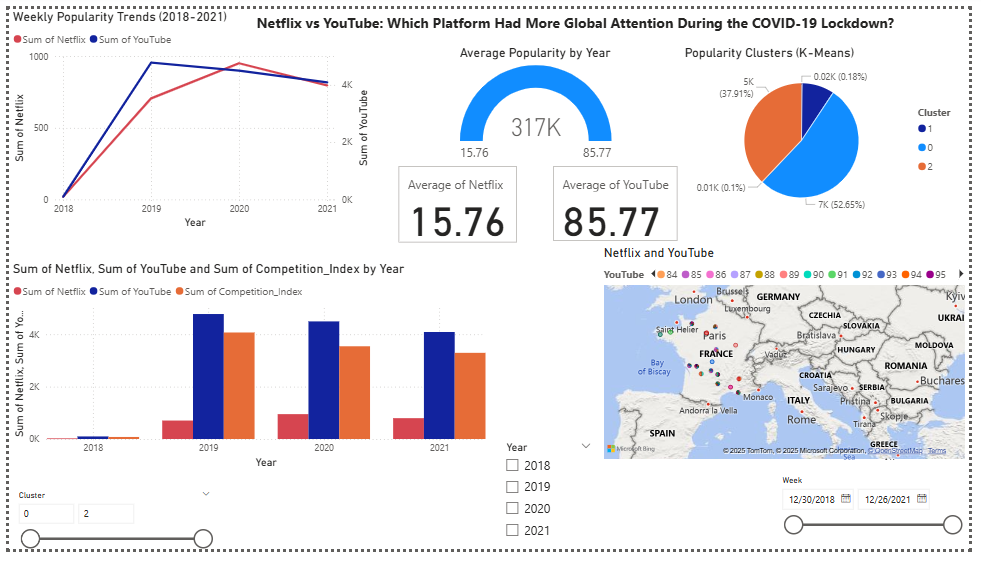

What the dashboard file says about the page in this screenshot:
{"tool":"powerbi","page":{"name":"DASHBOARD","canvas":[1280,720],"ordinal":0},"visuals":[{"type":"lineChart","title":"Weekly Popularity Trends (2018-2021)","fields":{"Category":["netflix_youtube_analyzed.Week.Variation.Date Hierarchy.Year","netflix_youtube_analyzed.Week.Variation.Date Hierarchy.Quarter","netflix_youtube_analyzed.Week.Variation.Date Hierarchy.Month","netflix_youtube_analyzed.Week.Variation.Date Hierarchy.Day"],"Y":["Sum(netflix_youtube_analyzed.Netflix)"],"Y2":["Sum(netflix_youtube_analyzed.YouTube)"]},"box":[0,0,483.8,296.7],"z":0},{"type":"pieChart","title":"Popularity Clusters (K-Means)","fields":{"Y":["Avg(netflix_youtube_analyzed.Netflix)","Sum(netflix_youtube_analyzed.YouTube)"],"Category":["netflix_youtube_analyzed.Cluster"]},"box":[895.8,47.2,383.6,234.3],"z":1000},{"type":"gauge","title":"Average Popularity by Year","fields":{"Y":["Sum(netflix_youtube_analyzed.Year)"],"MinValue":["Avg(netflix_youtube_analyzed.Netflix)"],"MaxValue":["Avg(netflix_youtube_analyzed.YouTube)"]},"box":[596,48,212,166],"z":2000},{"type":"clusteredColumnChart","fields":{"Category":["netflix_youtube_analyzed.Week.Variation.Date Hierarchy.Year","netflix_youtube_analyzed.Week.Variation.Date Hierarchy.Quarter","netflix_youtube_analyzed.Week.Variation.Date Hierarchy.Month","netflix_youtube_analyzed.Week.Variation.Date Hierarchy.Day"],"Y":["Sum(netflix_youtube_analyzed.Netflix)","Sum(netflix_youtube_analyzed.YouTube)","Sum(netflix_youtube_analyzed.Competition_Index)"]},"box":[0,336.7,640,280],"z":3000},{"type":"slicer","fields":{"Values":["netflix_youtube_analyzed.Week.Variation.Date Hierarchy.Year"]},"box":[650,570,138.3,150],"z":4000},{"type":"map","fields":{"Category":["netflix_youtube_analyzed.Netflix"],"Series":["netflix_youtube_analyzed.YouTube"]},"box":[788.3,313.3,491.7,291.7],"z":5000},{"type":"slicer","fields":{"Values":["netflix_youtube_analyzed.Cluster"]},"box":[0,635,280,85],"z":6000},{"type":"slicer","fields":{"Values":["netflix_youtube_analyzed.Week"]},"box":[1018.3,616.7,261.7,103.3],"z":7000},{"type":"cardVisual","fields":{"Data":["Avg(netflix_youtube_analyzed.YouTube)"]},"box":[720,204,176,110],"z":8000},{"type":"cardVisual","fields":{"Data":["Avg(netflix_youtube_analyzed.Netflix)"]},"box":[514,204,168,112],"z":9000},{"type":"textbox","box":[320,0,870,48],"z":10000}]}

Visuals, with their boxes in screenshot pixels (x1, y1, x2, y2), scaled from the page's 1280x720 canvas onto the 981x562 screenshot:
"Weekly Popularity Trends (2018-2021)" lineChart: box=[0, 0, 371, 232]
"Popularity Clusters (K-Means)" pieChart: box=[687, 37, 980, 220]
"Average Popularity by Year" gauge: box=[457, 37, 619, 167]
clusteredColumnChart - netflix_youtube_analyzed.Week.Variation.Date Hierarchy.Year x netflix_youtube_analyzed.Week.Variation.Date Hierarchy.Quarter: box=[0, 263, 490, 481]
slicer - netflix_youtube_analyzed.Week.Variation.Date Hierarchy.Year: box=[498, 445, 604, 561]
map - netflix_youtube_analyzed.Netflix x netflix_youtube_analyzed.YouTube: box=[604, 245, 980, 472]
slicer - netflix_youtube_analyzed.Cluster: box=[0, 496, 215, 561]
slicer - netflix_youtube_analyzed.Week: box=[780, 481, 980, 561]
cardVisual - Avg(netflix_youtube_analyzed.YouTube): box=[552, 159, 687, 245]
cardVisual - Avg(netflix_youtube_analyzed.Netflix): box=[394, 159, 523, 247]
textbox: box=[245, 0, 912, 37]
